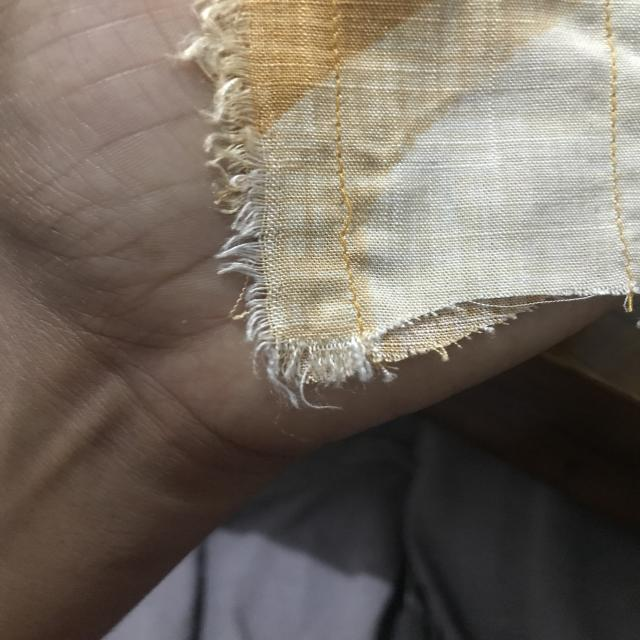skip: (315, 180, 366, 241)
